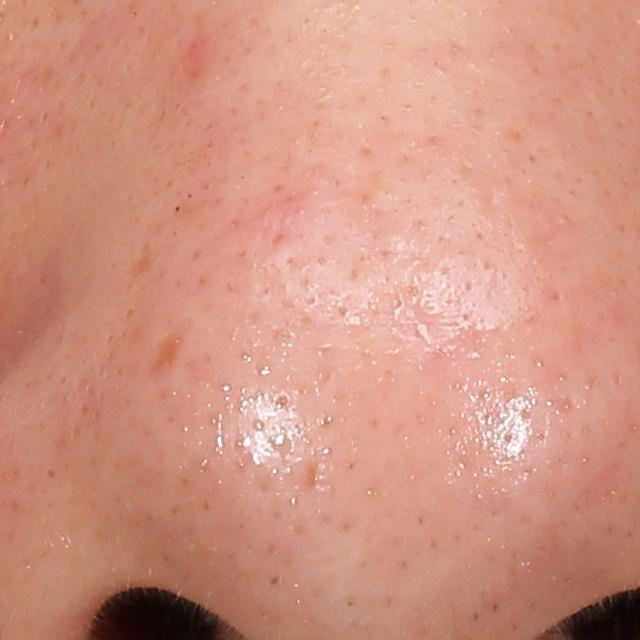melasma: (153, 329, 185, 372)
